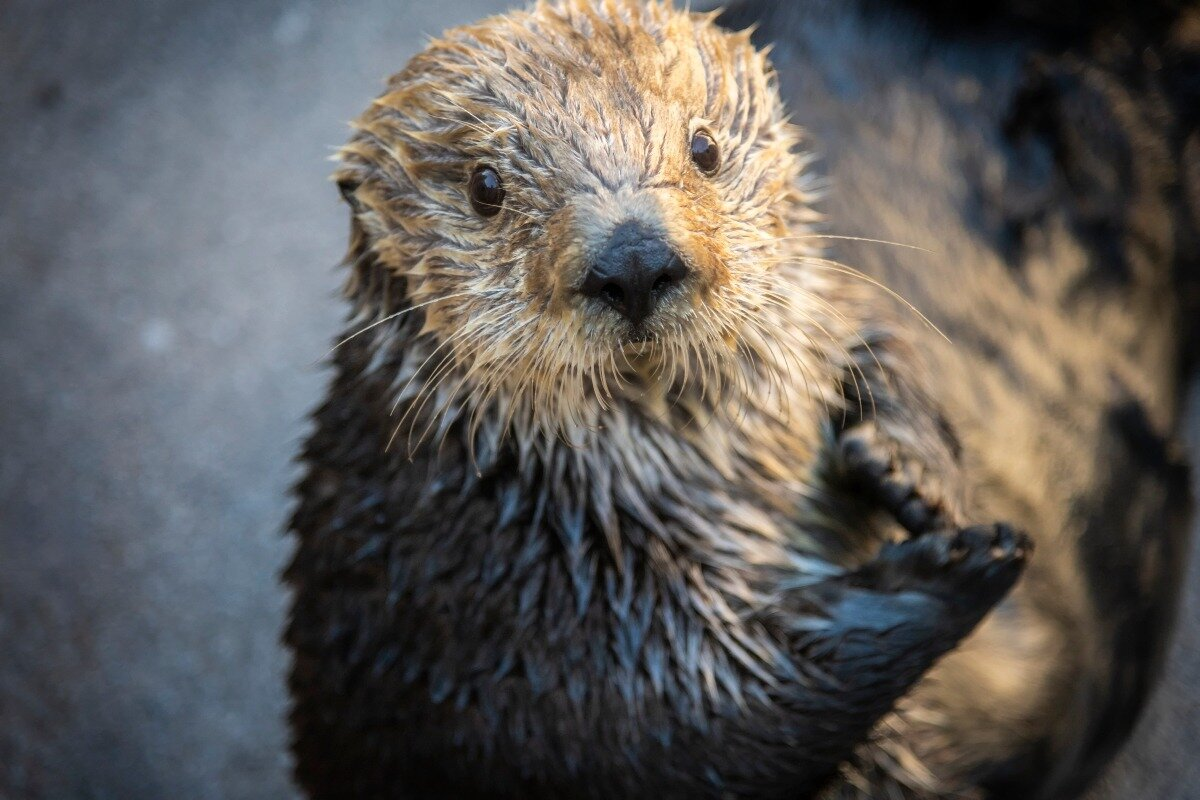otter: (291, 1, 1062, 719)
